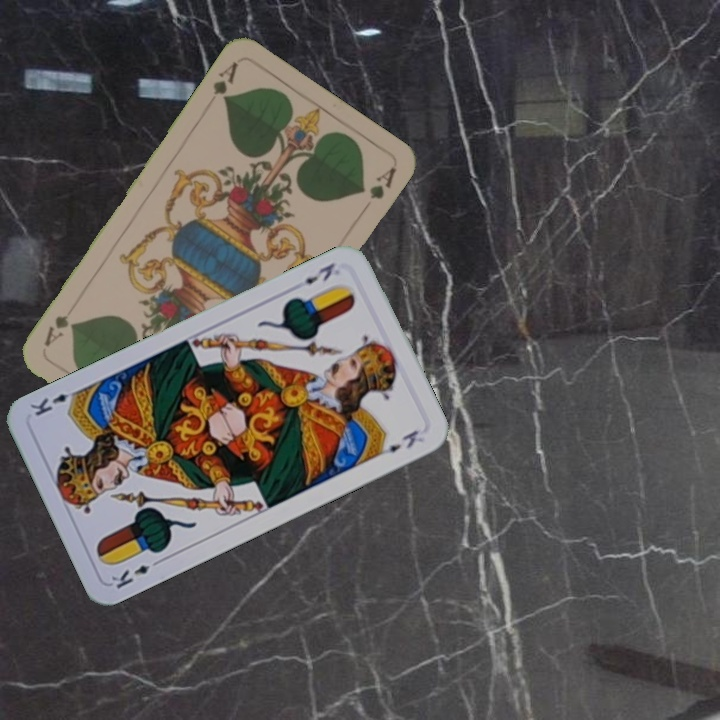EK: (107, 555, 165, 592), (300, 258, 338, 287)
GA: (208, 57, 241, 105)
